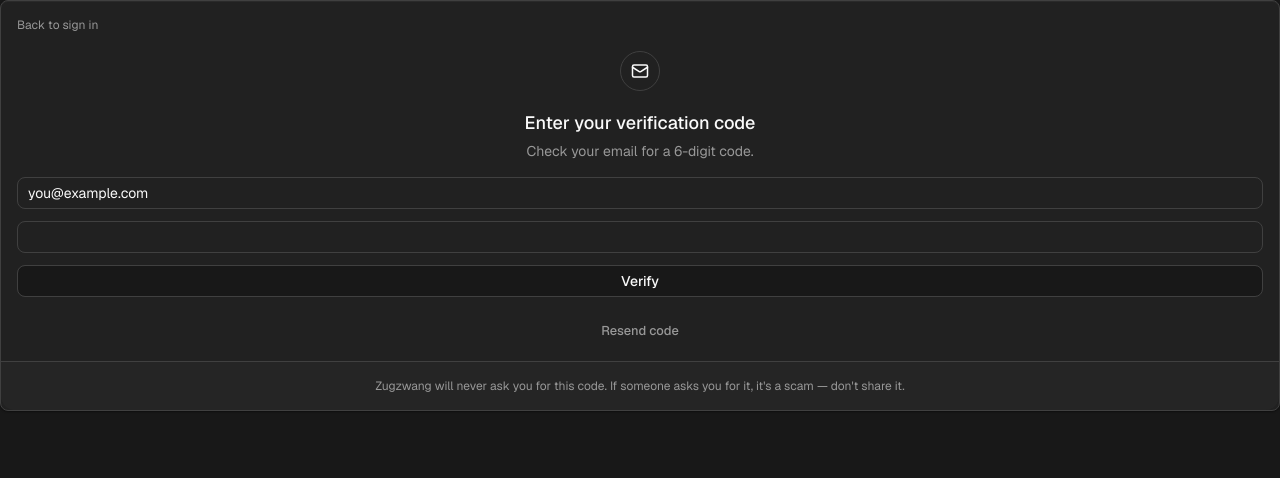
Test: otp resend — Turnstile widget › turnstile::resend-without-a-token-is-refused
The image size is (1280, 478).
Click the button "Resend code".
click(640, 331)  # box top-left (590, 317), bottom-right (690, 345)
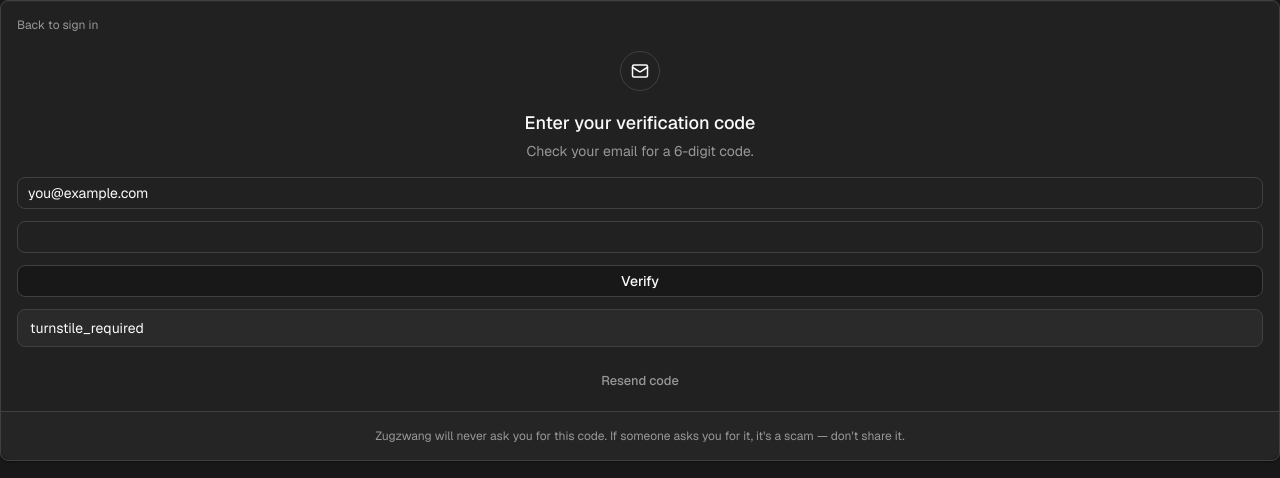
Check: the message reads "turnstile_required", box top-left (30, 319), bottom-right (144, 337)
